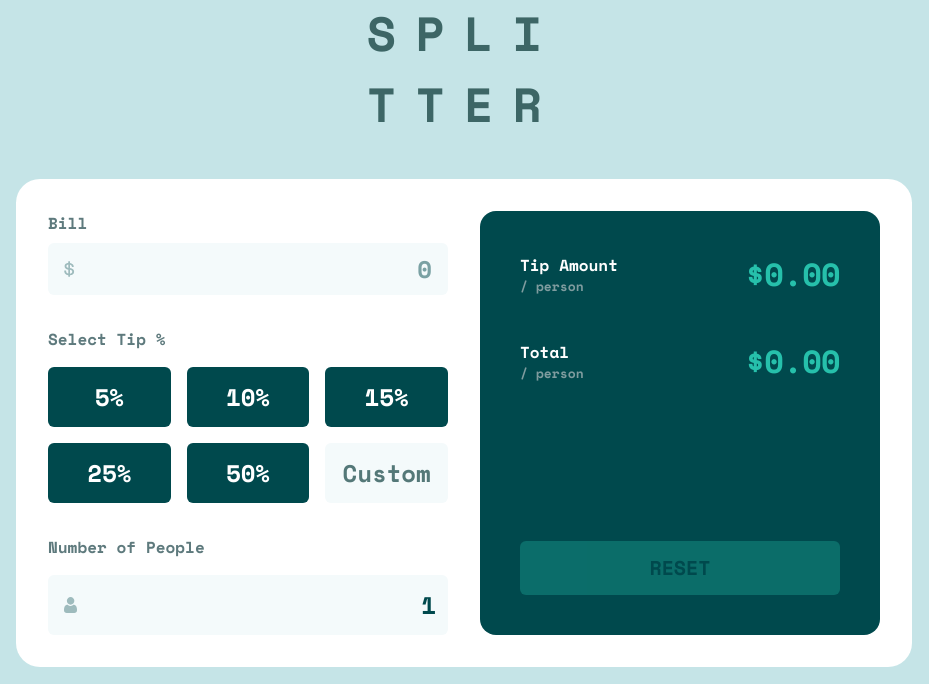
Test: shows error message when number of people is zero
The width and height of the screenshot is (929, 684).
Replace the text in the number field labelled "Number of People" with "0" at (248, 605), box [48,575,448,635]
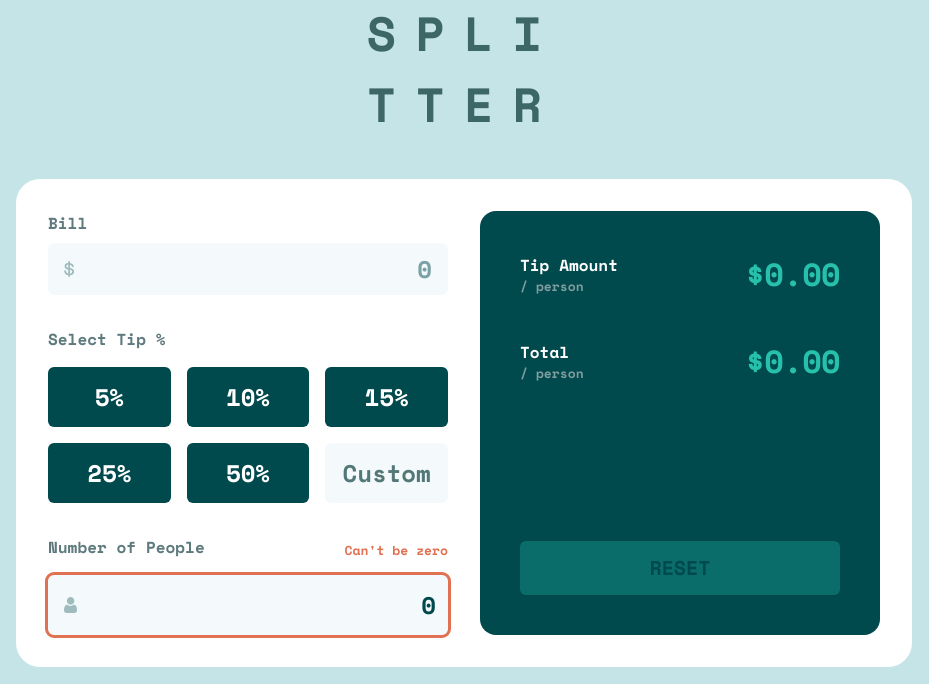
Result: the text "Can't be zero" is shown at [345,542,448,560]
